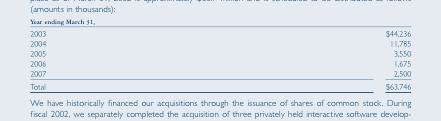table: (29, 28, 410, 90)
table column: (215, 28, 410, 90), (29, 28, 215, 90)
table row: (29, 67, 410, 79), (29, 79, 410, 90), (29, 28, 410, 38), (29, 47, 410, 57), (29, 57, 410, 67), (29, 38, 410, 47)
